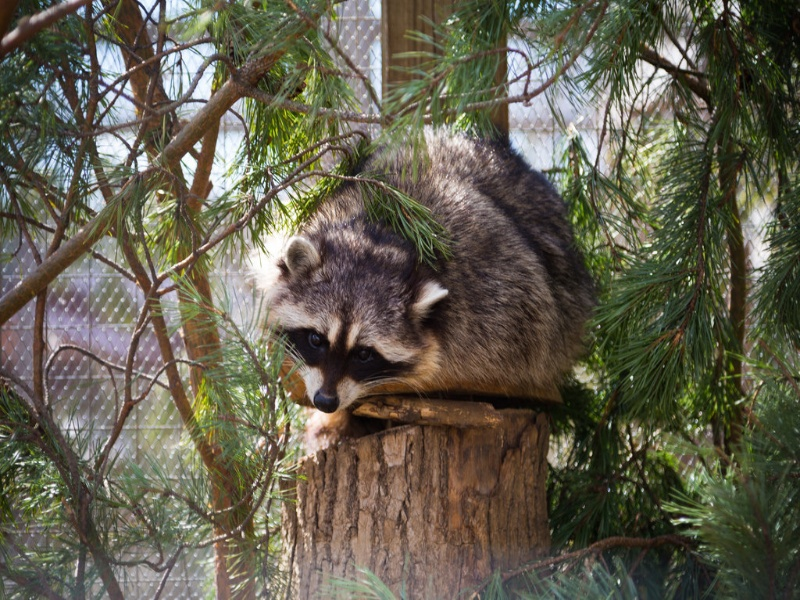raccoon: (263, 129, 602, 424)
